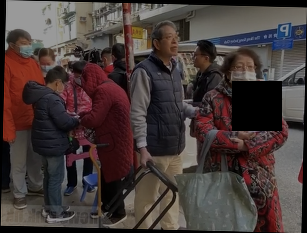with_mask: (230, 59, 257, 91), (15, 39, 33, 57), (37, 59, 53, 73)
without_mask: (160, 30, 180, 56), (190, 50, 205, 71)
